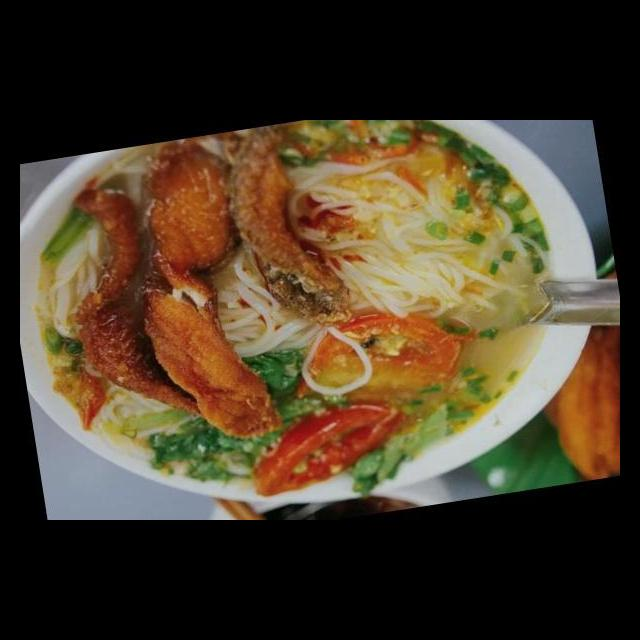bun: (290, 123, 562, 322), (204, 239, 329, 362)
bun ca: (46, 148, 593, 509)
ca: (137, 135, 286, 444), (67, 184, 202, 423), (221, 124, 357, 333)
